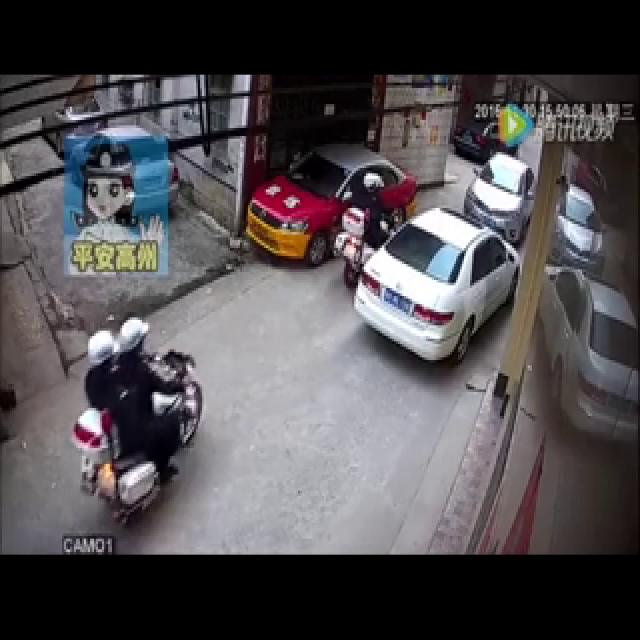arrest: (6, 155, 492, 538)
